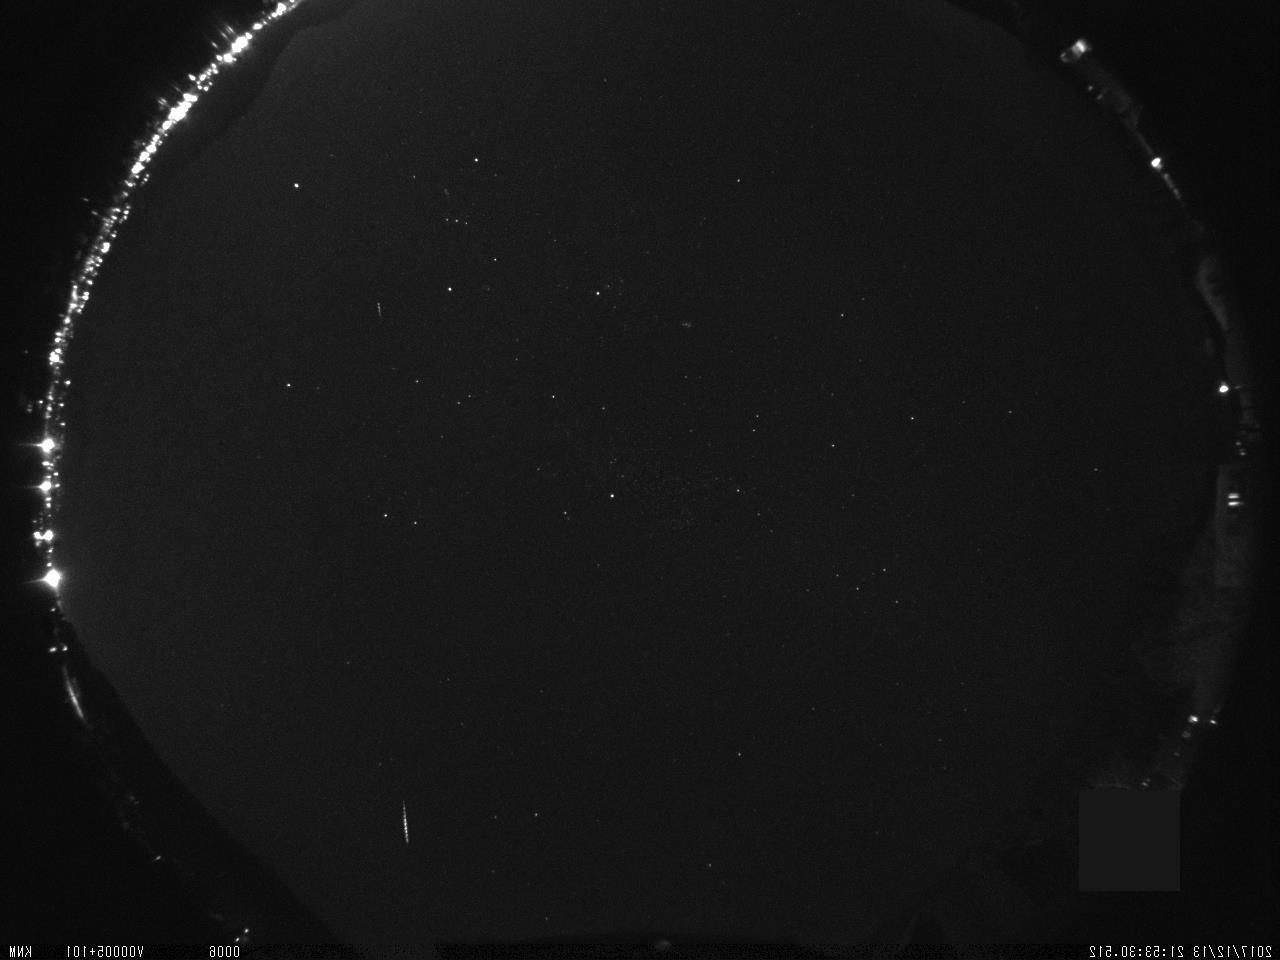meteor: (392, 791, 424, 860)
